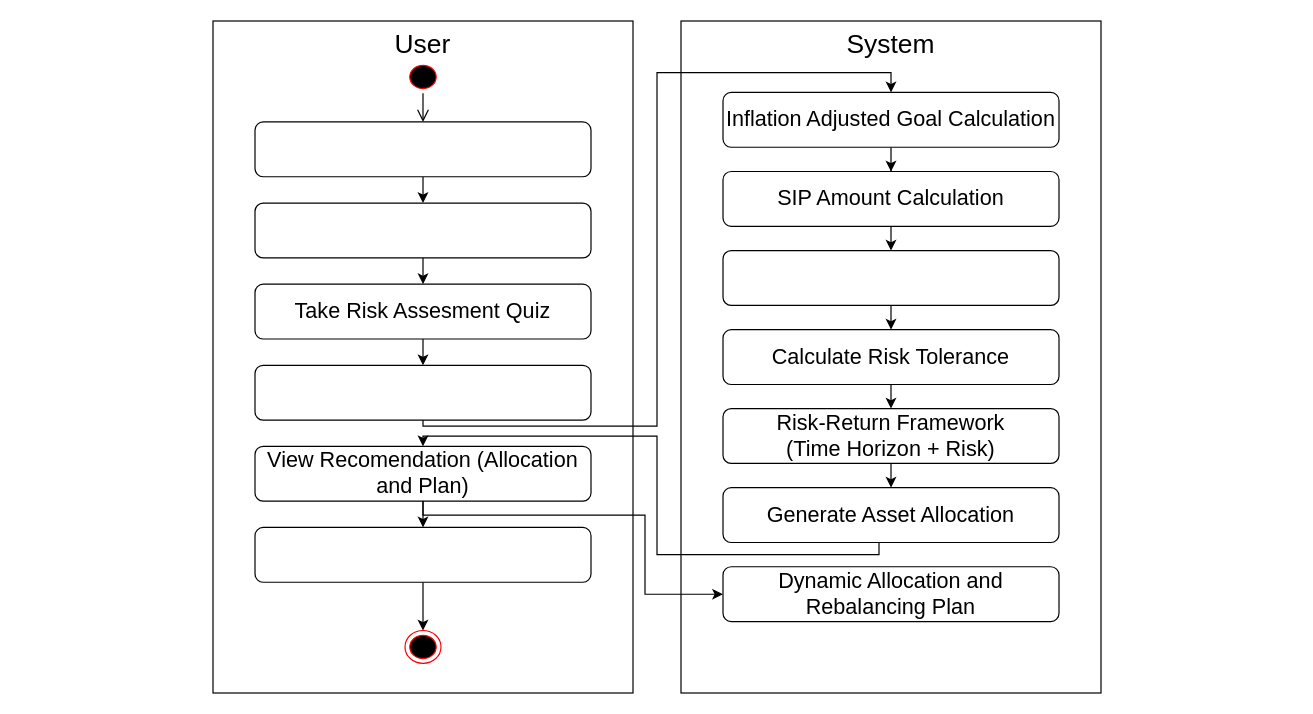
Some shapes in this 1313 by 714 pixel diagram are drawn without their labels. The centre of each missing label's shape, as x and y in pixels:
"Enter Financial Information" goes at pixel 422 230.
"Enter Goal Details (Goal Name, Amount, Target Date)" goes at pixel 422 392.
"Login/Register" goes at pixel 422 149.
"Safety / Feasibility Check" goes at pixel 890 277.
"Track Goal Progress" goes at pixel 422 554.
